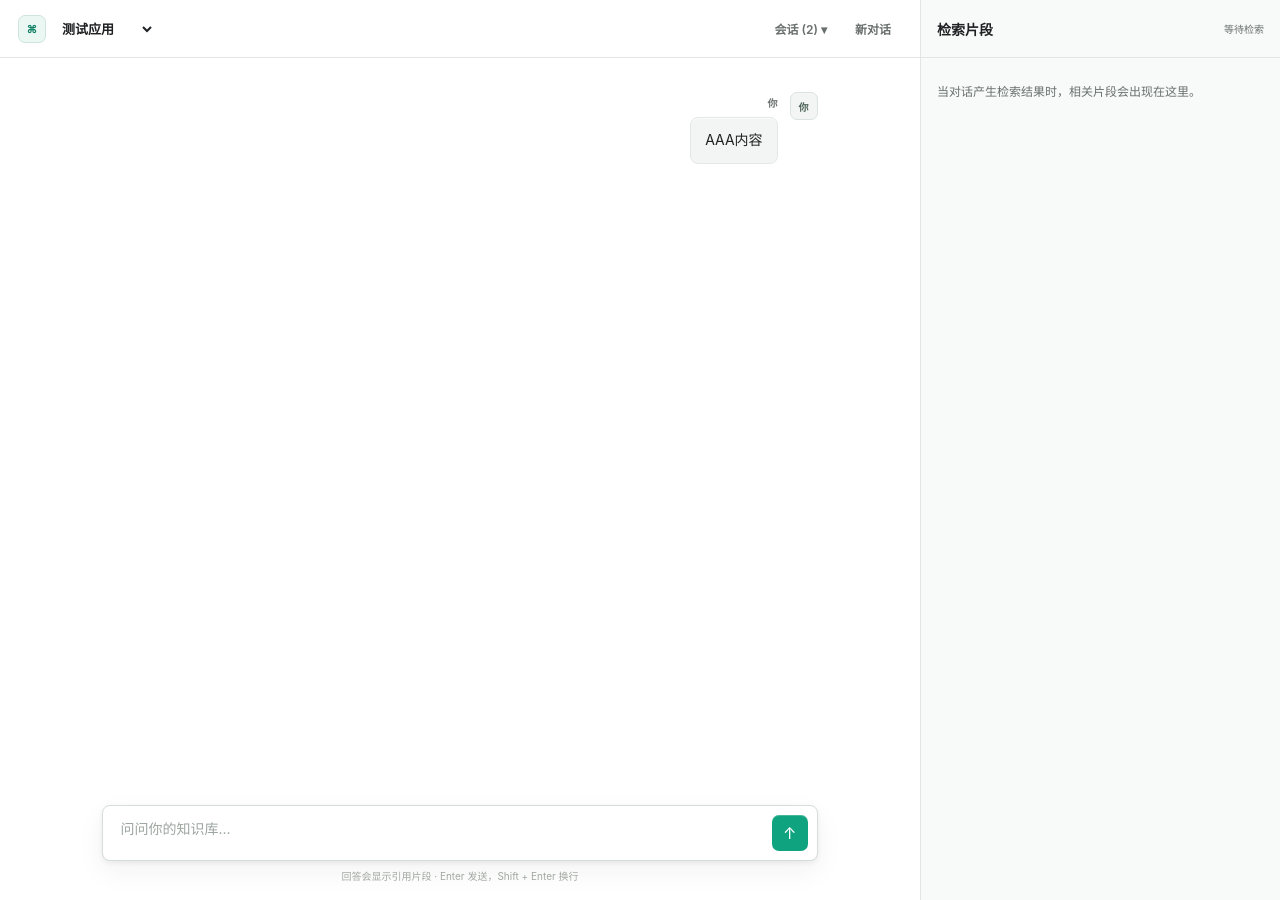
Test: ChatView conversation list › backfills the list from existing stored chats and highlights the active one
The image size is (1280, 900).
What coordinates should you click on to do the following:
click the button with aria-label "会话列表"
I would click on:
 (801, 28)
Its box is [764,12,838,46].
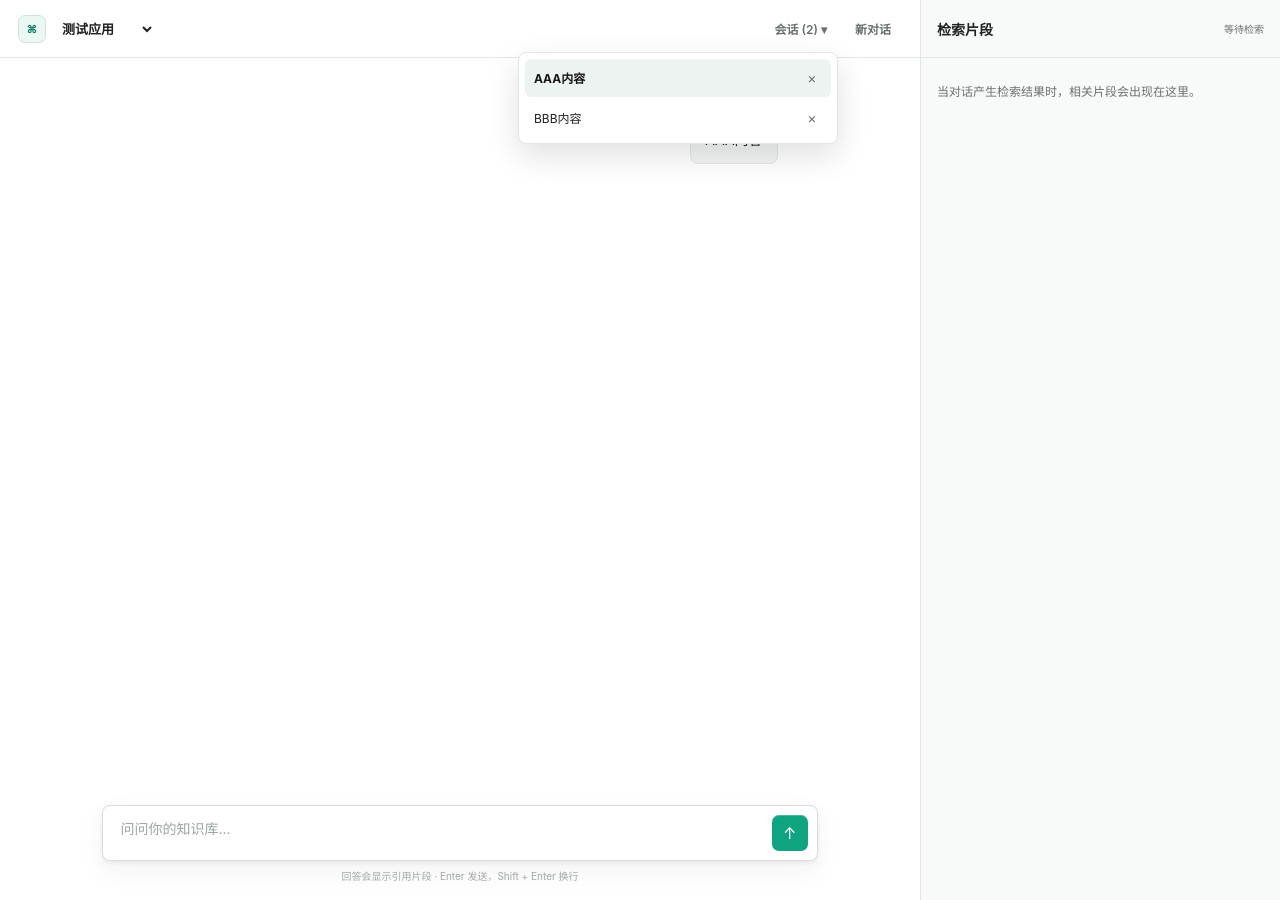
Result: the menu with class "conv-popover" shows "AAA内容" at [534,71,585,86]
Result: the menu with class "conv-popover" shows "BBB内容" at [534,111,582,126]
Result: the button with class "is-active" shows "AAA内容" at [525,58,831,96]
